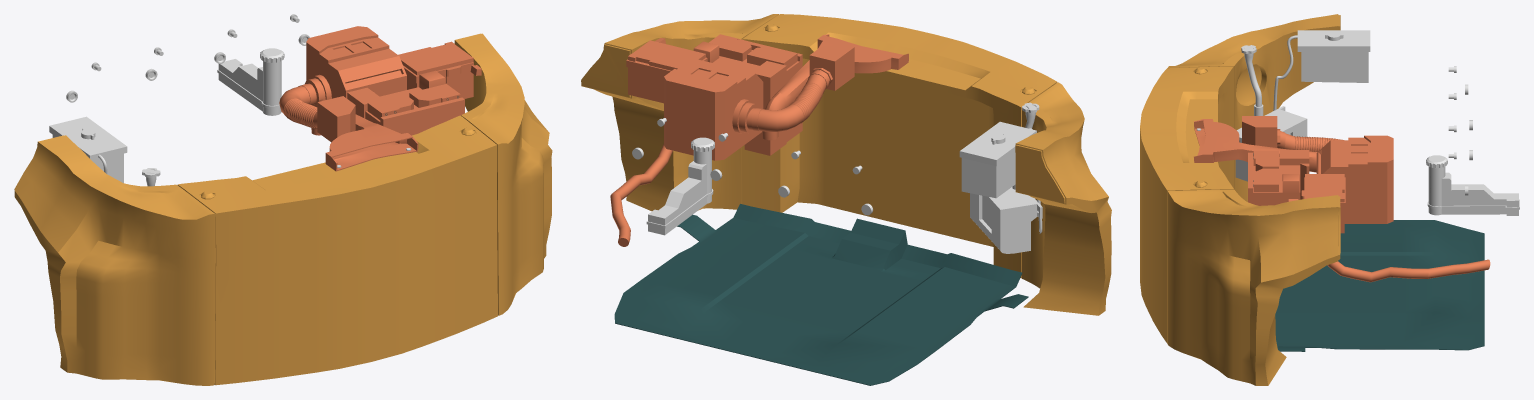
The model's file is Kapot1.fbx.
The picture shows the model from 3 angles, left to right: view 1: azimuth 30°, elevation 25°; view 2: azimuth 150°, elevation 25°; view 3: azimuth 270°, elevation 25°; orthographic projection. The views are drawn at different scales.
Visible parts, largest first — view 1: Plastic2, Cube.001, Cube.018, Cube.008, Cube.028, Cube.023, Cube.004, Cube.017, Cube.022, Cube.027, Cube.026, Cube.003; view 2: Plastic2, Cube.007, Cube.001, Cube.006, Cube.008, Cube.023, Cube.018, Cube.028, Cube.022, Cube.003, Cube.004, Cube.017 (+3 smaller); view 3: Plastic2, Cube.007, Cube.001, Cube.008, Cube.018, Cube.003, Cube.028, Cube.032, Cube.004, Cube.023, Cube.017, Cube.006 (+5 smaller).
Part boxes in pixels (x1,y1,x2,y2): Plastic2: (14,33,552,385); Cube.001: (305,26,406,106); Cube.018: (311,99,418,171); Cube.008: (217,48,284,115); Cube.028: (347,87,464,135); Cube.023: (398,41,473,98); Cube.004: (49,116,127,161); Cube.017: (317,96,355,142); Cube.022: (279,83,317,128); Cube.027: (409,84,460,107); Cube.026: (367,94,413,119); Cube.003: (52,135,123,183); Plastic2: (581,14,1111,315); Cube.007: (614,204,1028,385); Cube.001: (664,59,763,160); Cube.006: (970,187,1042,253); Cube.008: (646,137,714,235); Cube.023: (626,40,707,103); Cube.018: (762,34,908,140); Cube.028: (713,39,802,155); Cube.022: (746,70,830,131); Cube.003: (961,152,1015,198); Cube.004: (959,121,1036,166); Cube.017: (809,44,854,90); Plastic2: (1140,14,1340,385); Cube.007: (1275,220,1484,351); Cube.001: (1316,135,1393,223); Cube.008: (1426,155,1519,215); Cube.018: (1194,119,1317,172); Cube.003: (1301,52,1368,82); Cube.028: (1248,150,1309,205); Cube.032: (1327,259,1490,282); Cube.004: (1297,30,1370,51); Cube.023: (1301,174,1345,233); Cube.017: (1242,116,1280,147); Cube.006: (1235,106,1307,181).
Size of the model in its own units: 172 by 69.88 by 129.
